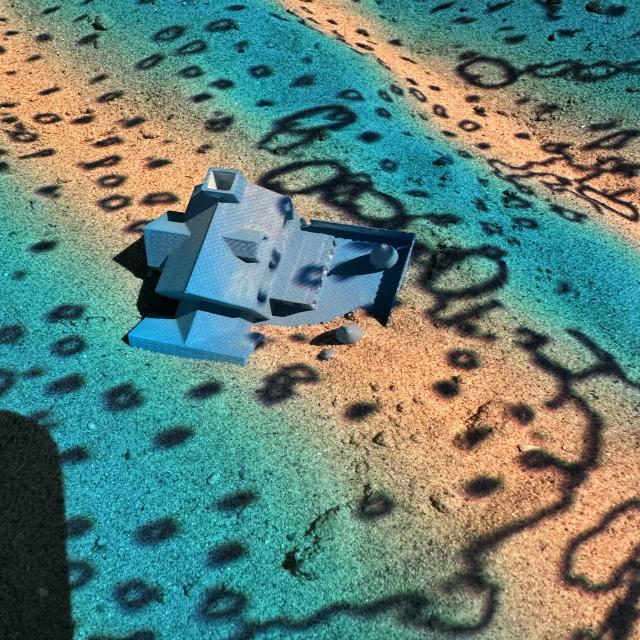house: (126, 166, 416, 367)
